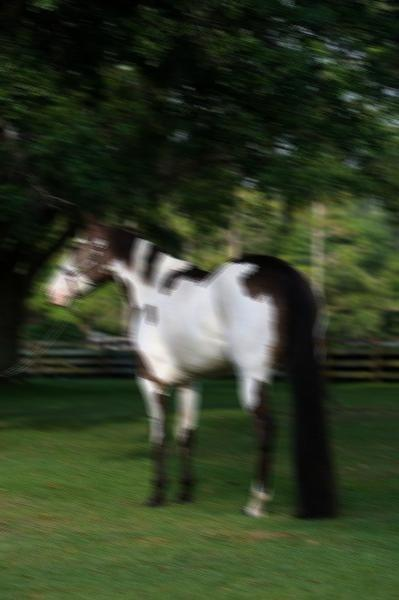horse: (42, 205, 342, 518)
